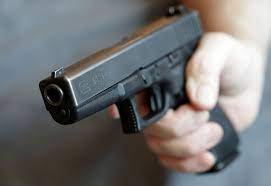gun: (38, 3, 244, 175)
